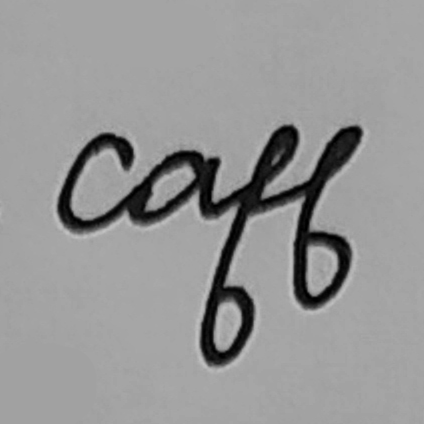a: (122, 146, 224, 229)
c: (52, 128, 141, 241)
f: (196, 117, 301, 369), (288, 121, 365, 315)
